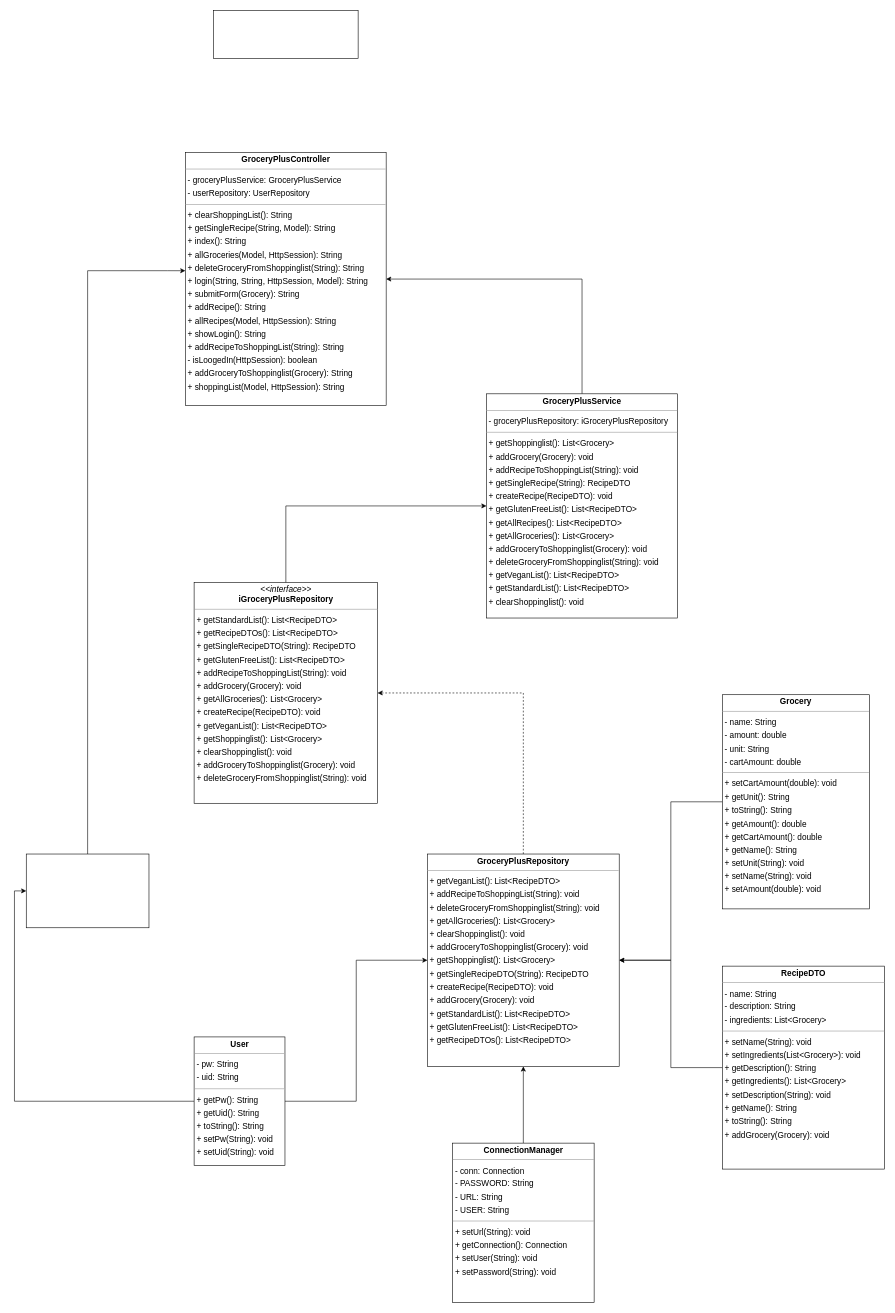
Some shapes in this 895 by 1313 pixel diagram are drawn without their labels. The centre of each missing label's shape, as x and y in pixels:
"GroceryPlusApplication + main(String[]): void" belongs at (x=285, y=34).
"UserRepository ~ users: List<User> + getUser(String): User" belongs at (x=87, y=890).
